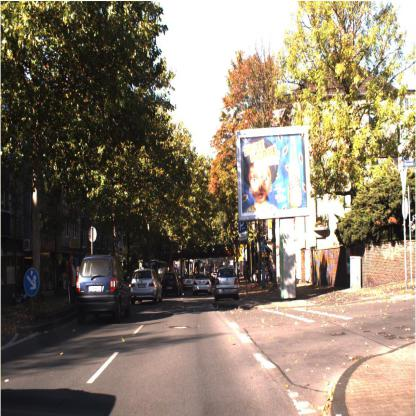mandatory: (21, 260, 43, 300)
